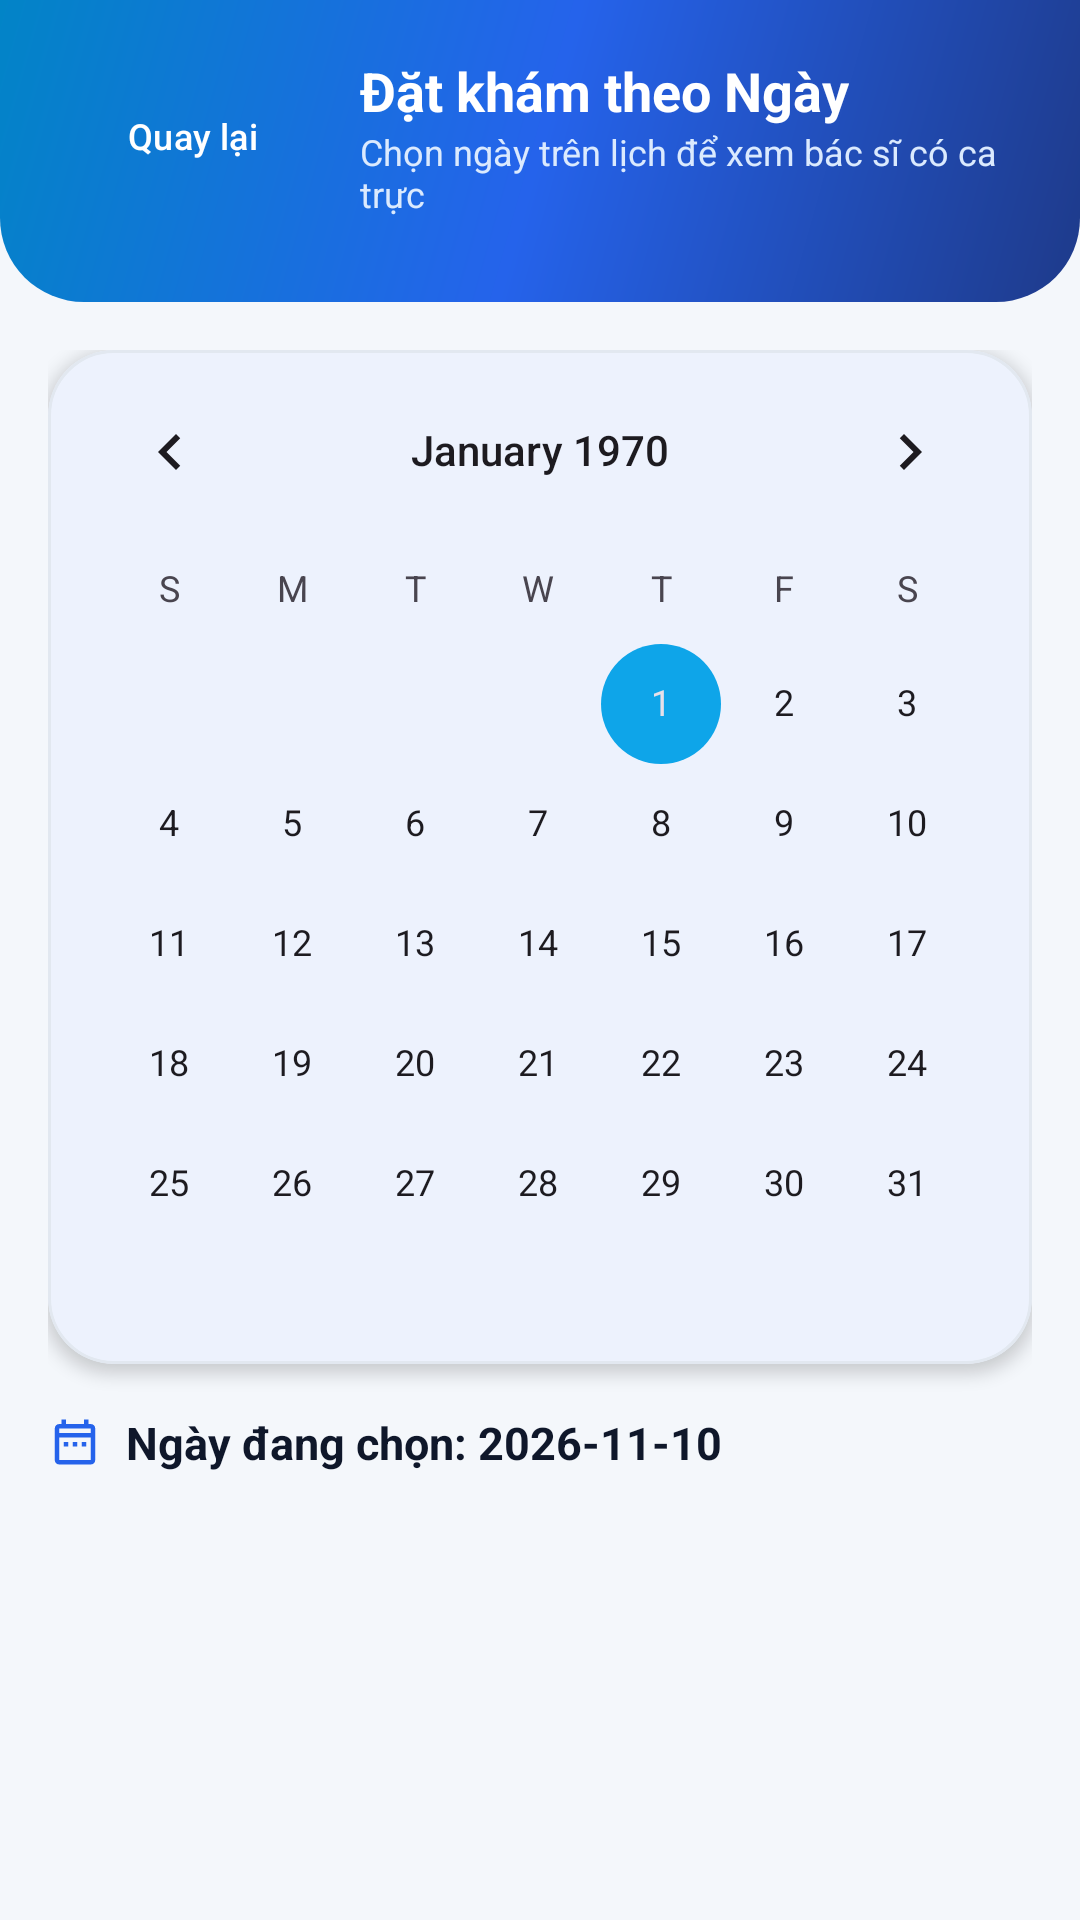

Icons on this 1080w x 1920h Android screen, each with the point to tap as (x,y):
calendar: (75,1442)
